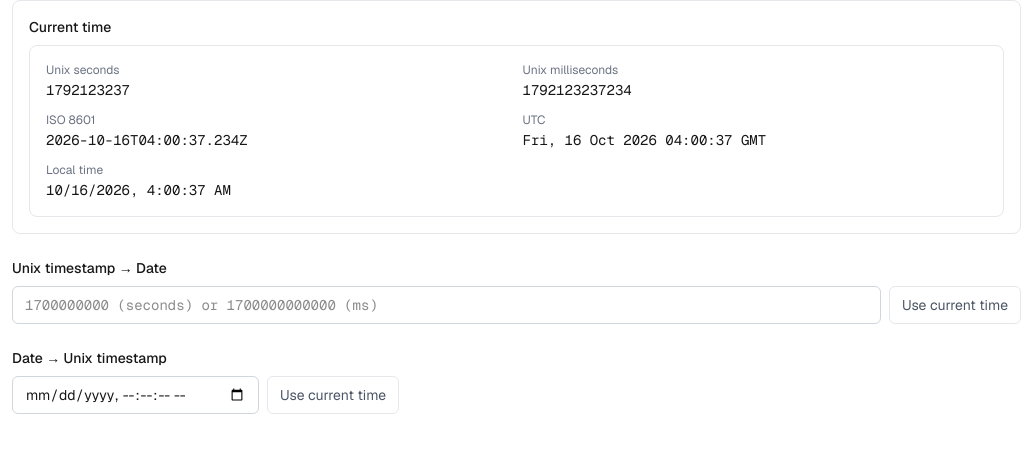
Test: TimestampConverterTool › shows an inline error for invalid timestamp input, without crashing
Type "not-a-number" into the field labelled "Unix timestamp → Date". click: {"x": 446, "y": 305}
box: 12,286 -> 881,324
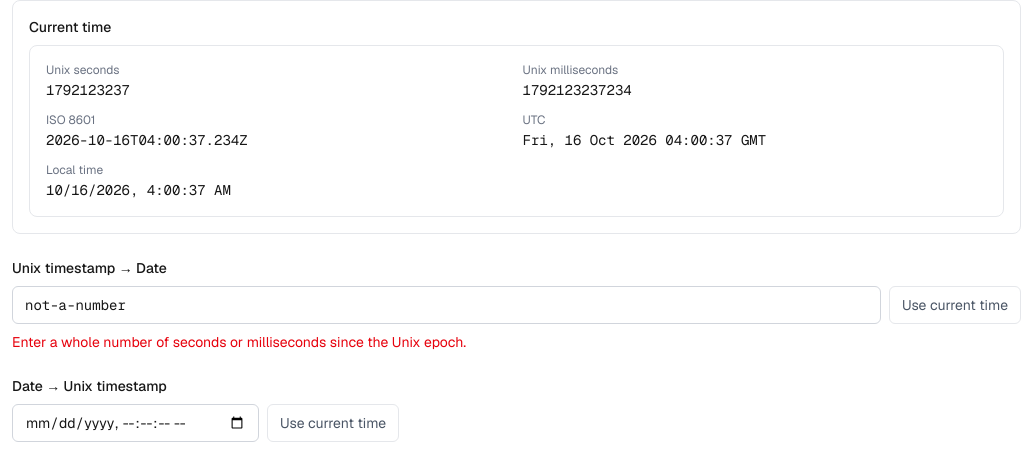
Check: the text "Enter a whole number" is shown, box 12,333 -> 466,351
